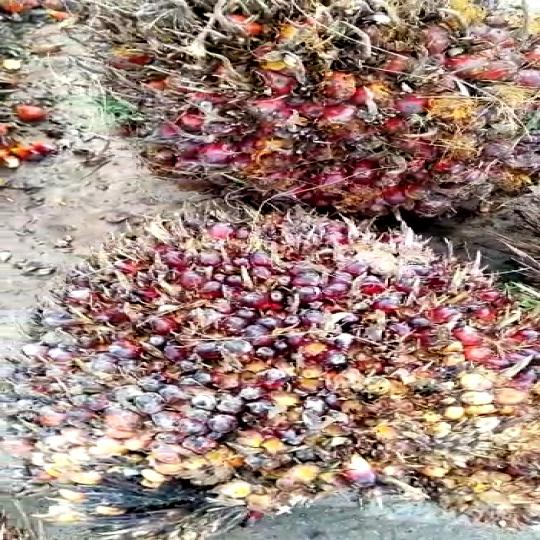masak: (0, 199, 540, 540), (87, 0, 540, 224)
